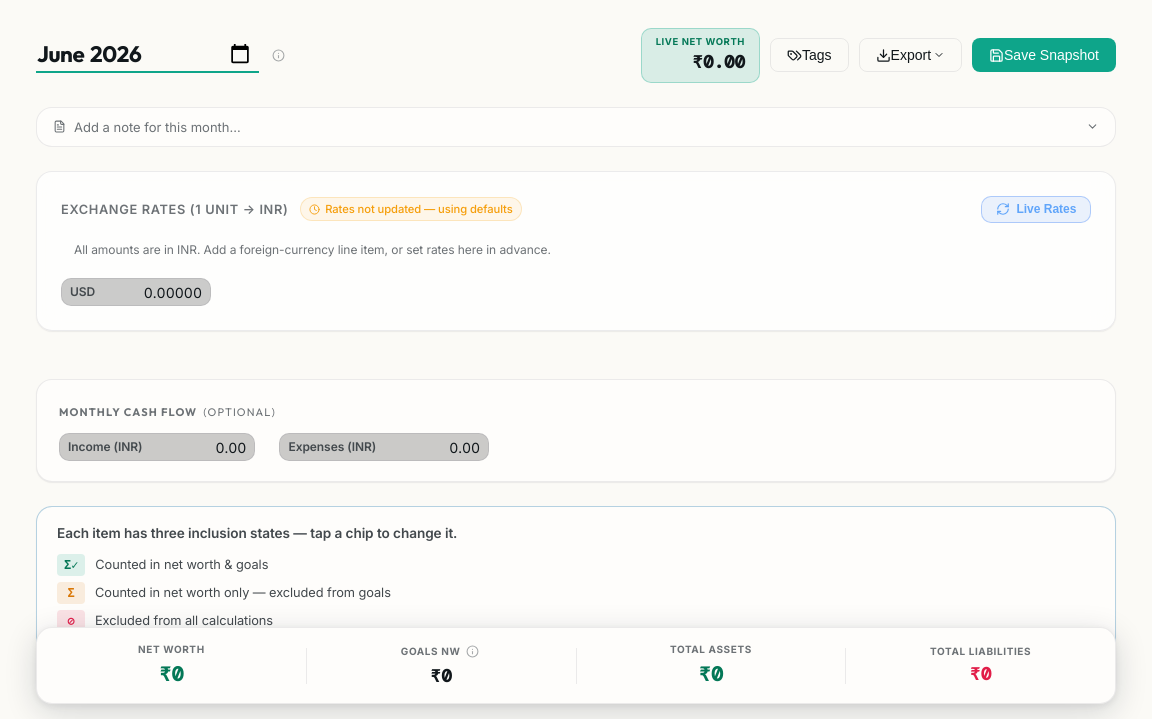
Scenario: SnapshotEditor — export menu › opens and closes the export menu
Click the button "Export".
click(910, 55)  # box [859, 38, 962, 72]
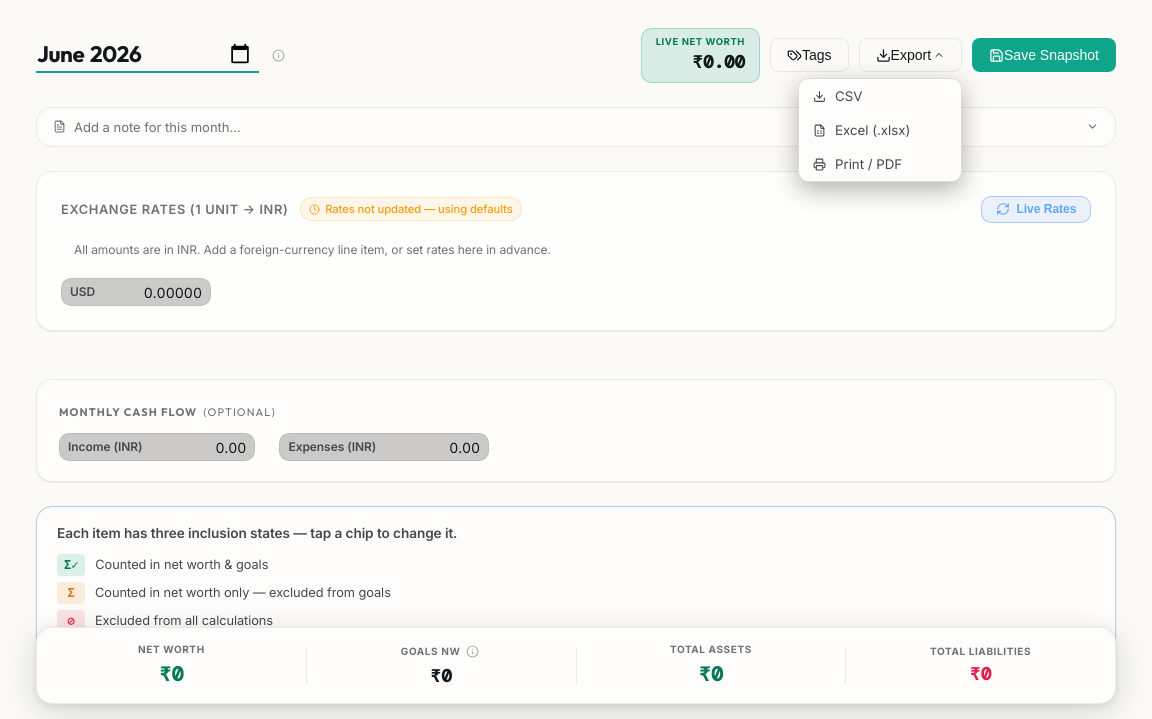
Check: the menu is shown, box [798, 78, 962, 182]
Click the button "Export".
click(910, 55)  # box [859, 38, 962, 72]
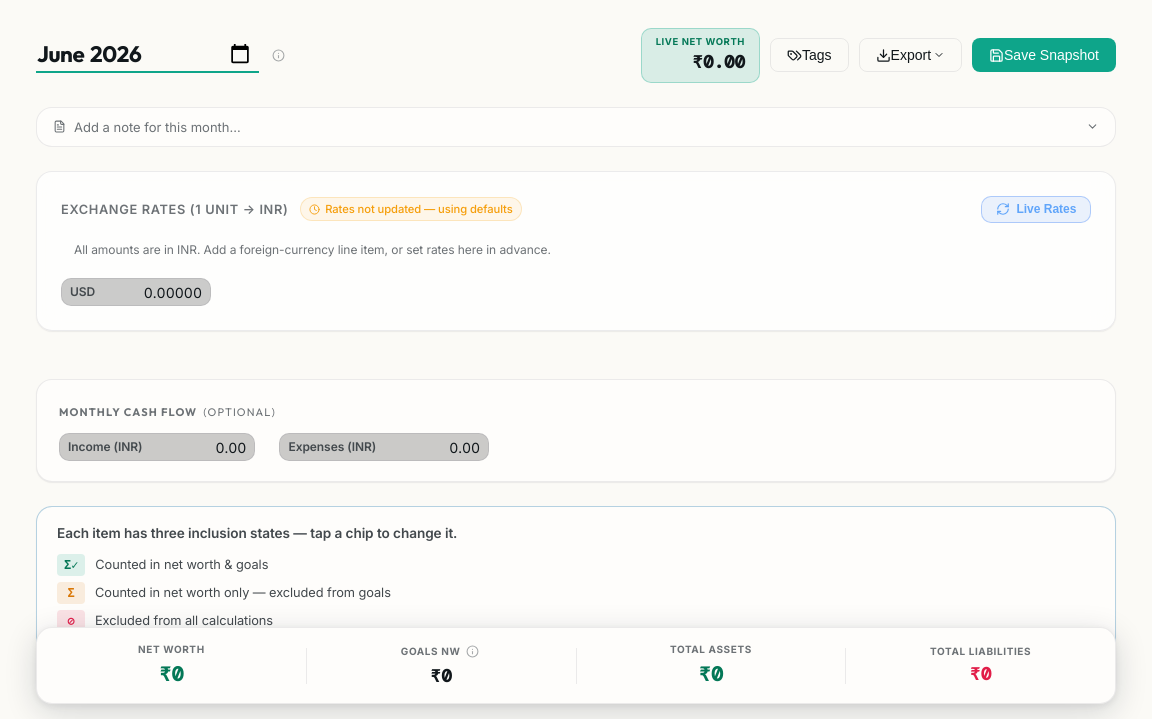
Check: the menu is gone
